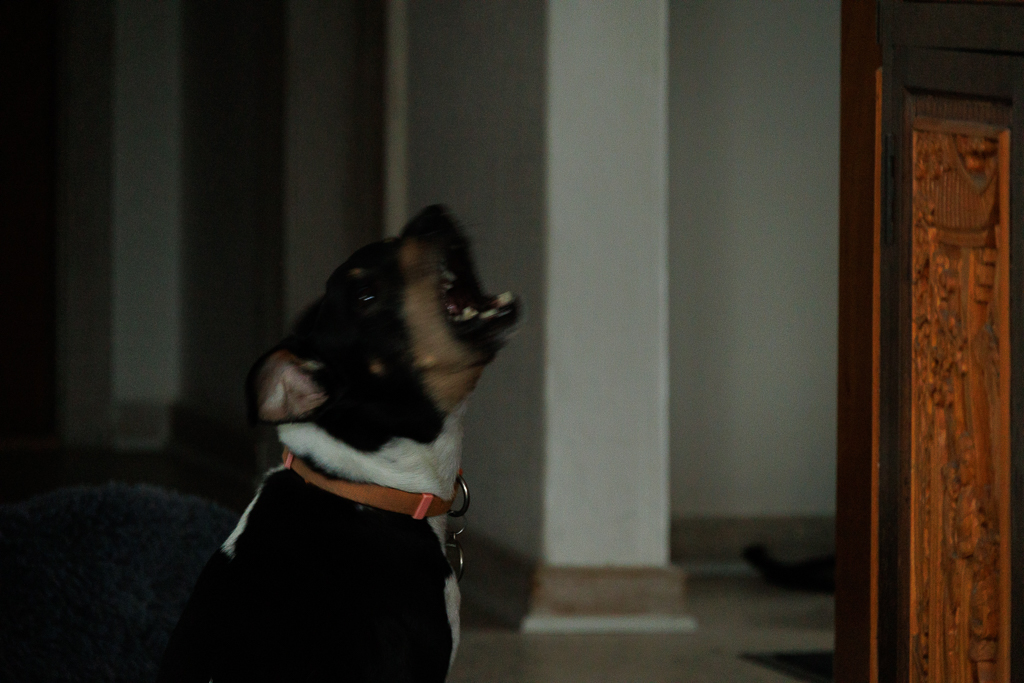Dog: (138, 196, 529, 683)
